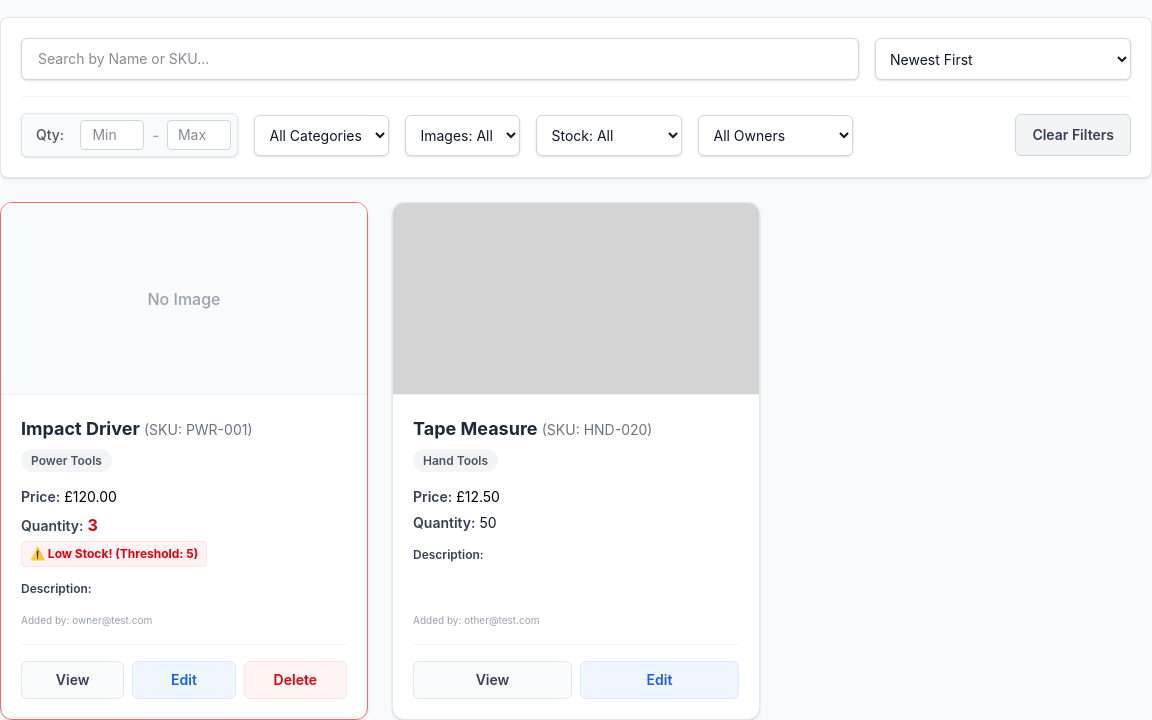
Scenario: Inventory System Integration › Inventory Actions › opens View Modal and displays Audit History
(page scrolled)
# Find the "View" button specifically for the Impact Driver card
Click the button "View" below "owner@test.com". click: (73, 680)
box: [21,661,124,699]
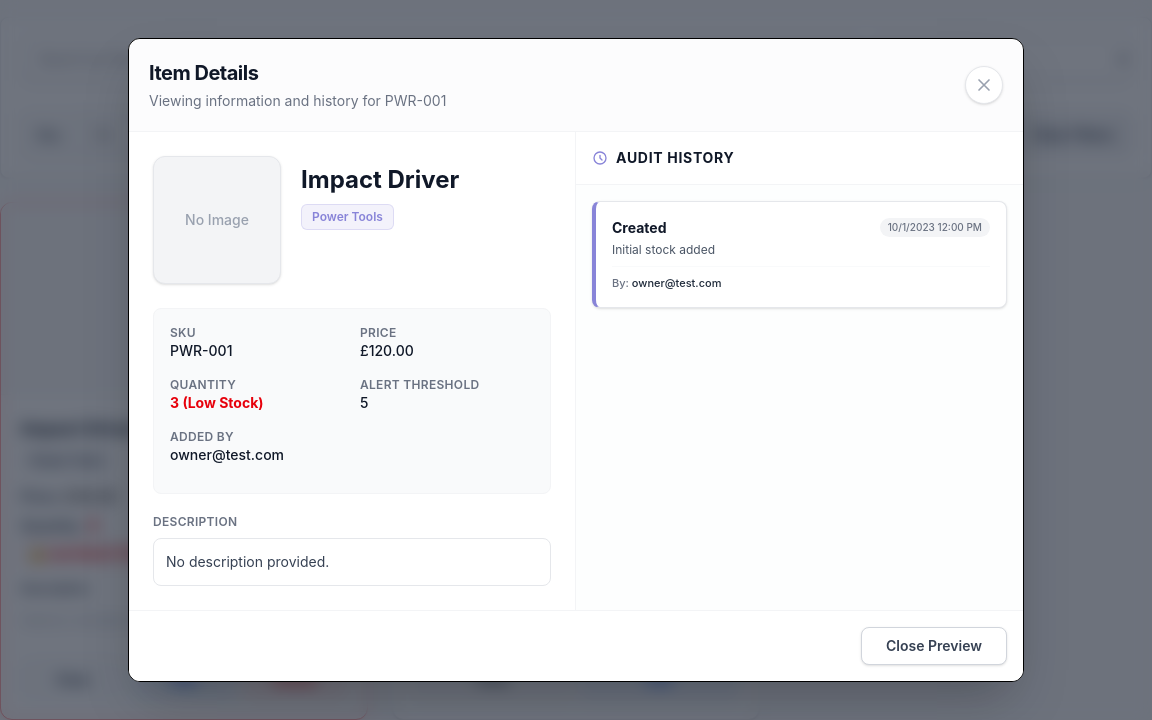
Expected: the heading "Item Details" is shown, [149,61,258,85]
Expected: the heading "Audit History" is shown, [592,149,734,166]
Expected: the text "Initial stock added" is shown, [612,242,715,257]
